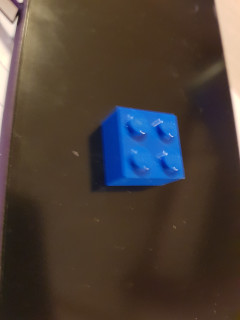2x2 blue: (97, 104, 188, 190)
